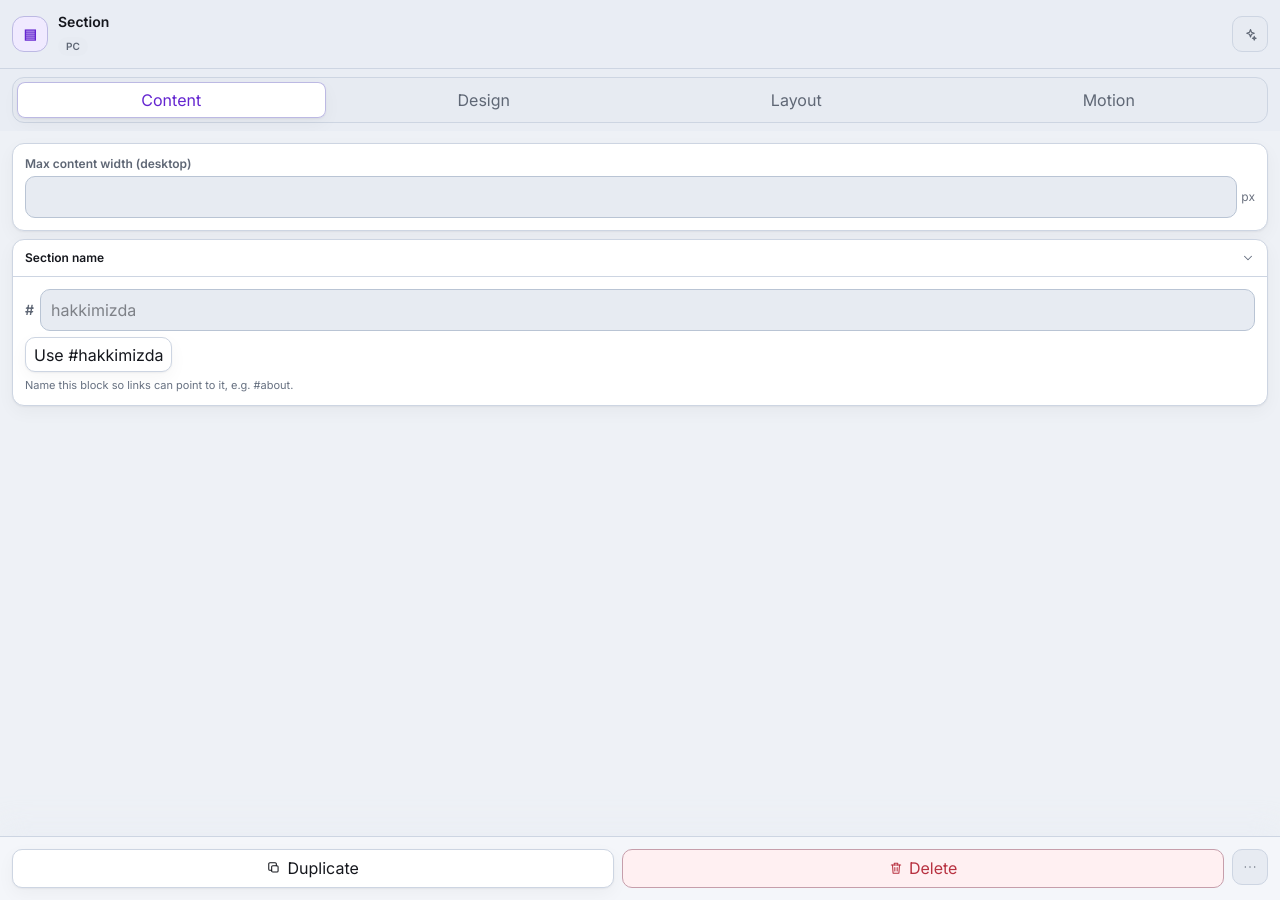
Test: Section name field › suggests a name from the block content and applies it in one click
Click the button "Use #hakkimizda" at (99, 355), box [25,337,172,372]
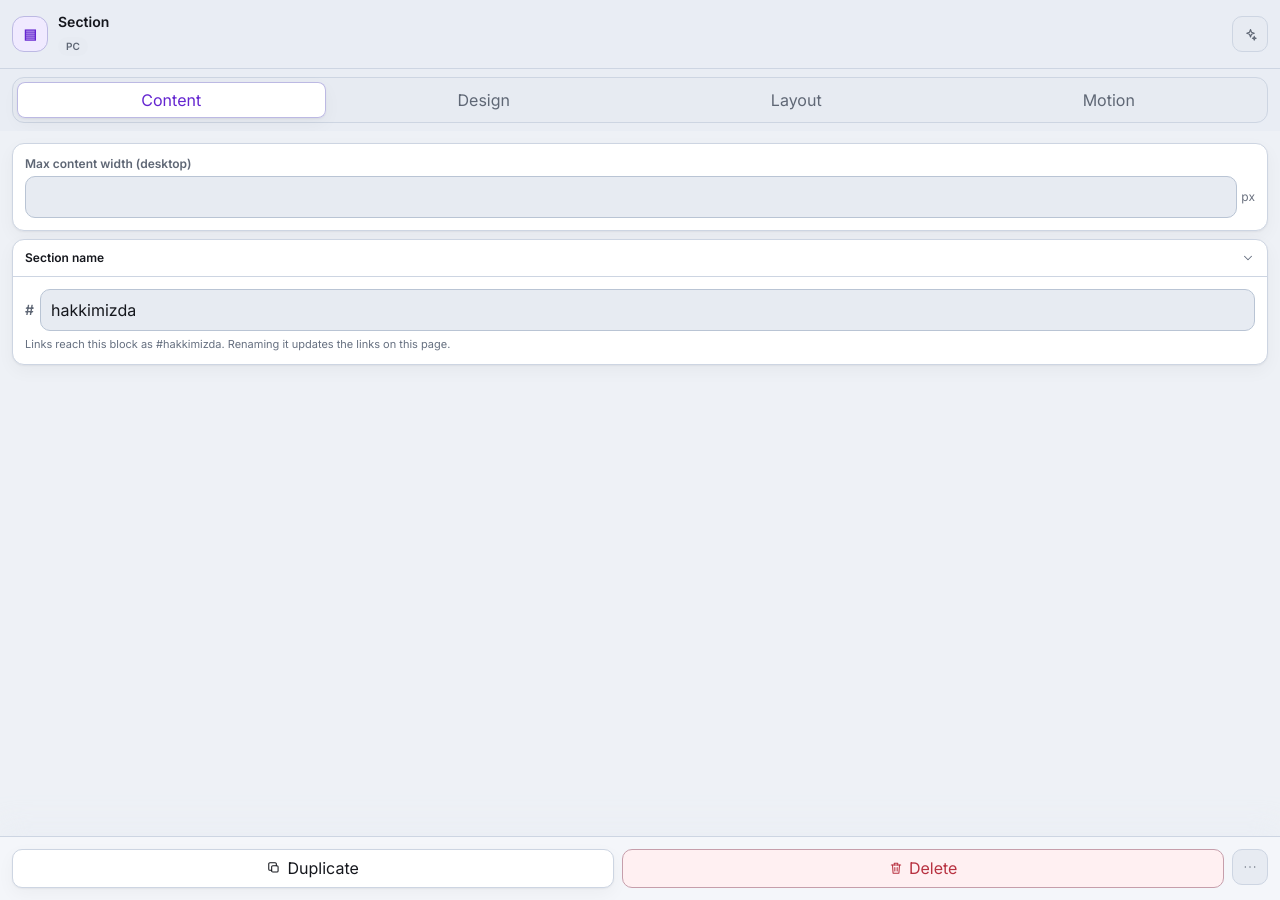
Expected: the text "Links reach this block as #hakkimizda" is shown, [25,337,450,351]
